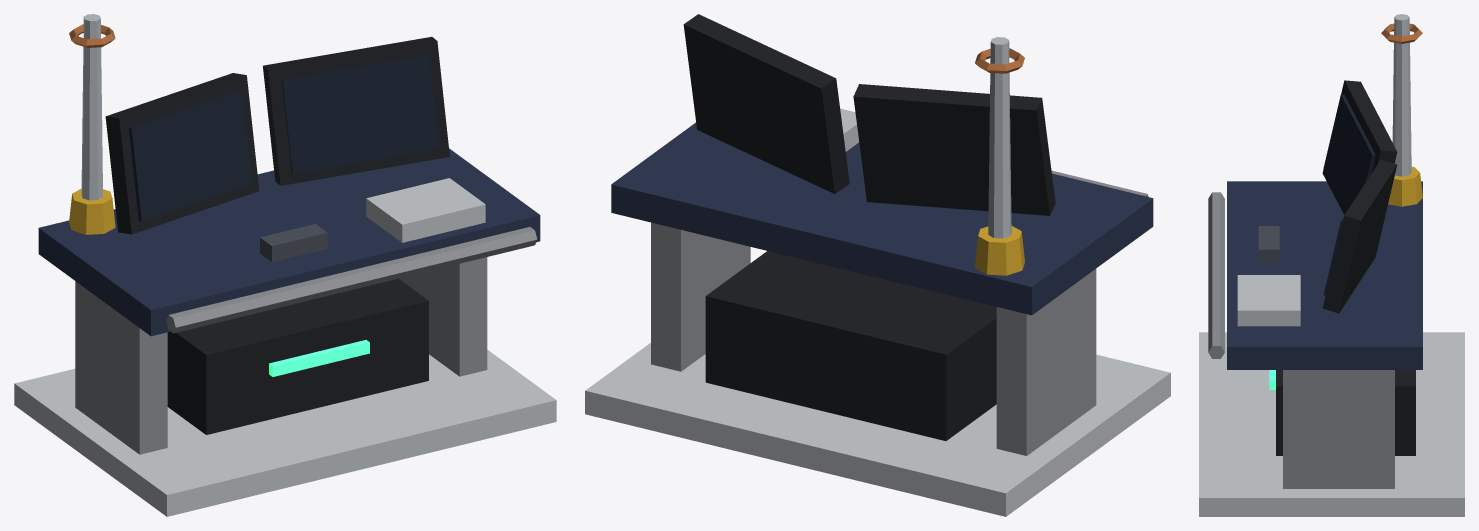
Rendered from cabin-scan-console.glb.
3 views of the same model, side by side, from view 1: azimuth 30°, elevation 25°; view 2: azimuth 150°, elevation 25°; view 3: azimuth 270°, elevation 25° (orthographic). The views are drawn at different scales.
Visible parts, largest first — view 1: CabinScanConsole_HullBlack, CabinScanConsole_Aluminum, CabinScanConsole_Pack, CabinScanConsole_Titanium, CabinScanConsole_Visor, CabinScanConsole_Steel, CabinScanConsole_Strap, CabinScanConsole_FoilGold, CabinScanConsole_LedGreen, CabinScanConsole_Copper; view 2: CabinScanConsole_HullBlack, CabinScanConsole_Pack, CabinScanConsole_Aluminum, CabinScanConsole_Titanium, CabinScanConsole_Steel, CabinScanConsole_FoilGold, CabinScanConsole_Copper; view 3: CabinScanConsole_Aluminum, CabinScanConsole_Pack, CabinScanConsole_Titanium, CabinScanConsole_HullBlack, CabinScanConsole_Visor, CabinScanConsole_Steel, CabinScanConsole_FoilGold, CabinScanConsole_Strap, CabinScanConsole_Copper.
Part boxes in pixels (<box>): CabinScanConsole_HullBlack: <box>105,36,449,434</box>; CabinScanConsole_Aluminum: <box>14,178,556,516</box>; CabinScanConsole_Pack: <box>38,148,540,336</box>; CabinScanConsole_Titanium: <box>75,227,537,454</box>; CabinScanConsole_Visor: <box>128,55,438,221</box>; CabinScanConsole_Steel: <box>81,14,102,200</box>; CabinScanConsole_Strap: <box>260,224,327,261</box>; CabinScanConsole_FoilGold: <box>69,188,115,234</box>; CabinScanConsole_LedGreen: <box>269,340,369,376</box>; CabinScanConsole_Copper: <box>69,24,115,47</box>; CabinScanConsole_HullBlack: <box>683,14,1055,440</box>; CabinScanConsole_Pack: <box>611,122,1153,315</box>; CabinScanConsole_Aluminum: <box>585,108,1170,516</box>; CabinScanConsole_Titanium: <box>651,170,1148,455</box>; CabinScanConsole_Steel: <box>988,37,1011,238</box>; CabinScanConsole_FoilGold: <box>975,226,1024,275</box>; CabinScanConsole_Copper: <box>975,48,1024,73</box>; CabinScanConsole_Aluminum: <box>1199,275,1464,516</box>; CabinScanConsole_Pack: <box>1227,181,1422,369</box>; CabinScanConsole_Titanium: <box>1208,192,1394,488</box>; CabinScanConsole_HullBlack: <box>1276,80,1415,455</box>; CabinScanConsole_Visor: <box>1323,94,1375,295</box>; CabinScanConsole_Steel: <box>1392,14,1411,176</box>; CabinScanConsole_FoilGold: <box>1388,166,1422,206</box>; CabinScanConsole_Strap: <box>1258,226,1279,263</box>; CabinScanConsole_Copper: <box>1381,23,1422,43</box>.
Bounding box in the file's own units: 0.56 × 0.555 × 0.38.
